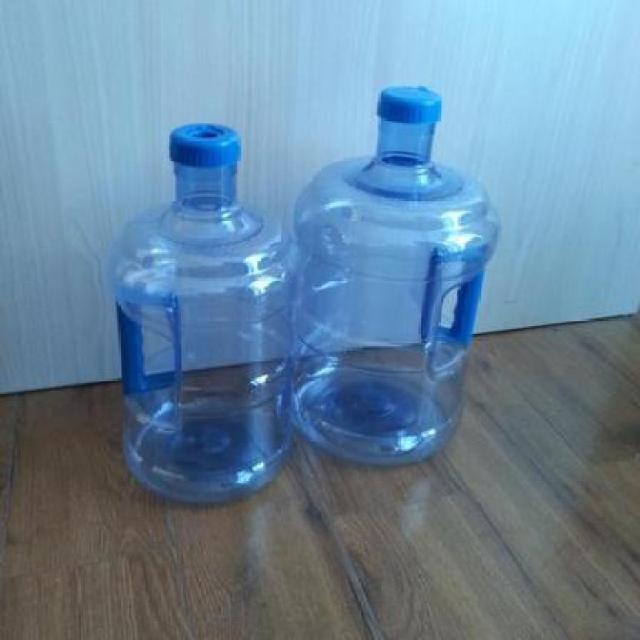coolerbottle: (286, 83, 509, 471), (106, 119, 311, 513)
